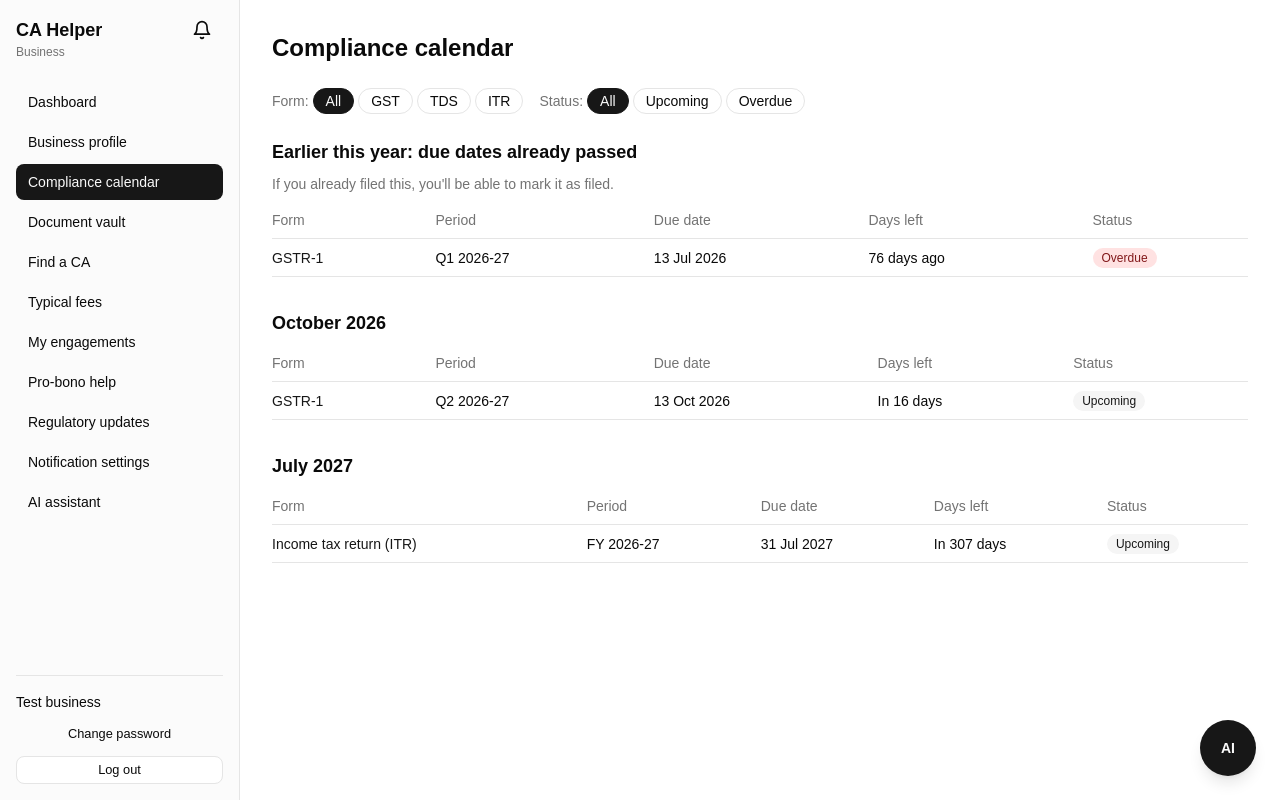
Test: compliance calendar page › filters by form and status
Click the button "ITR": point(499, 101) [475, 88, 524, 114]
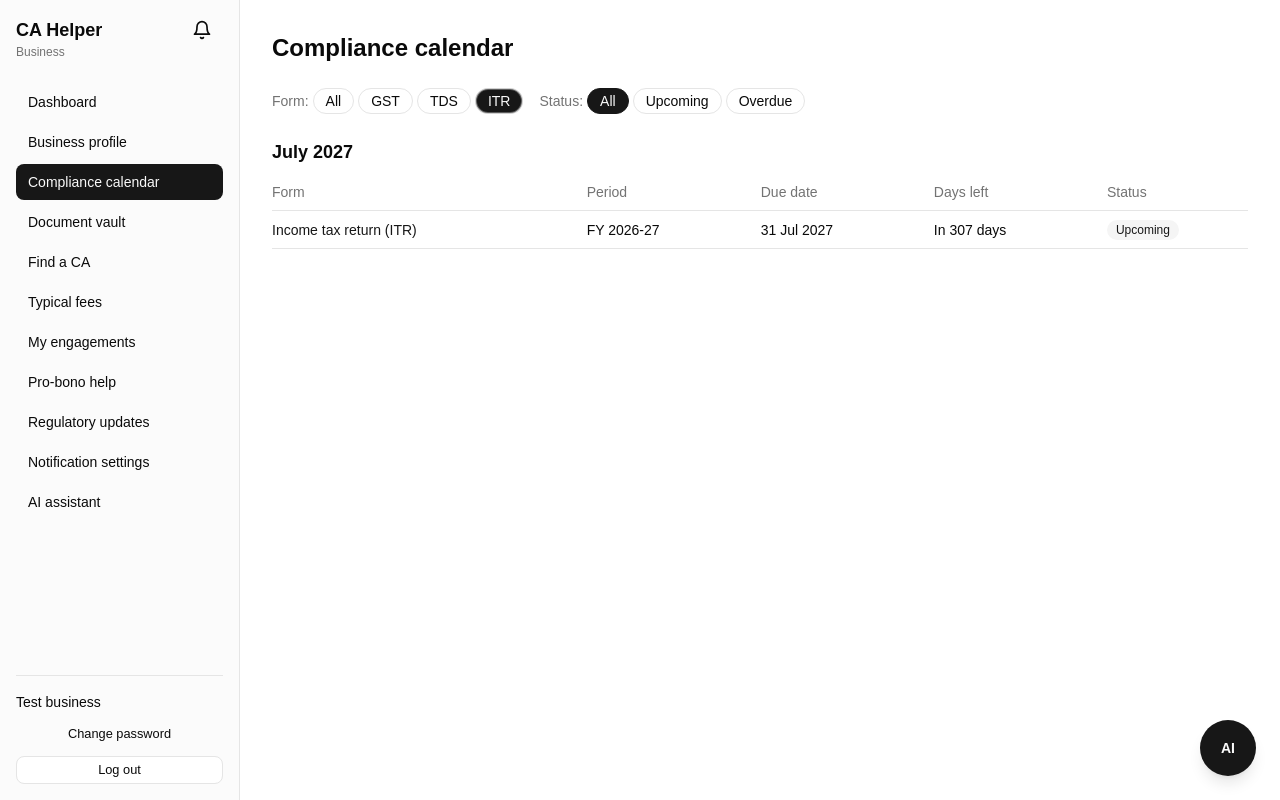
Expected: the link "Income tax return (ITR)" is shown, [272, 222, 417, 238]
Result: the link "GSTR-1" is gone
Click the 1st button "All": point(333, 101) [313, 88, 354, 114]
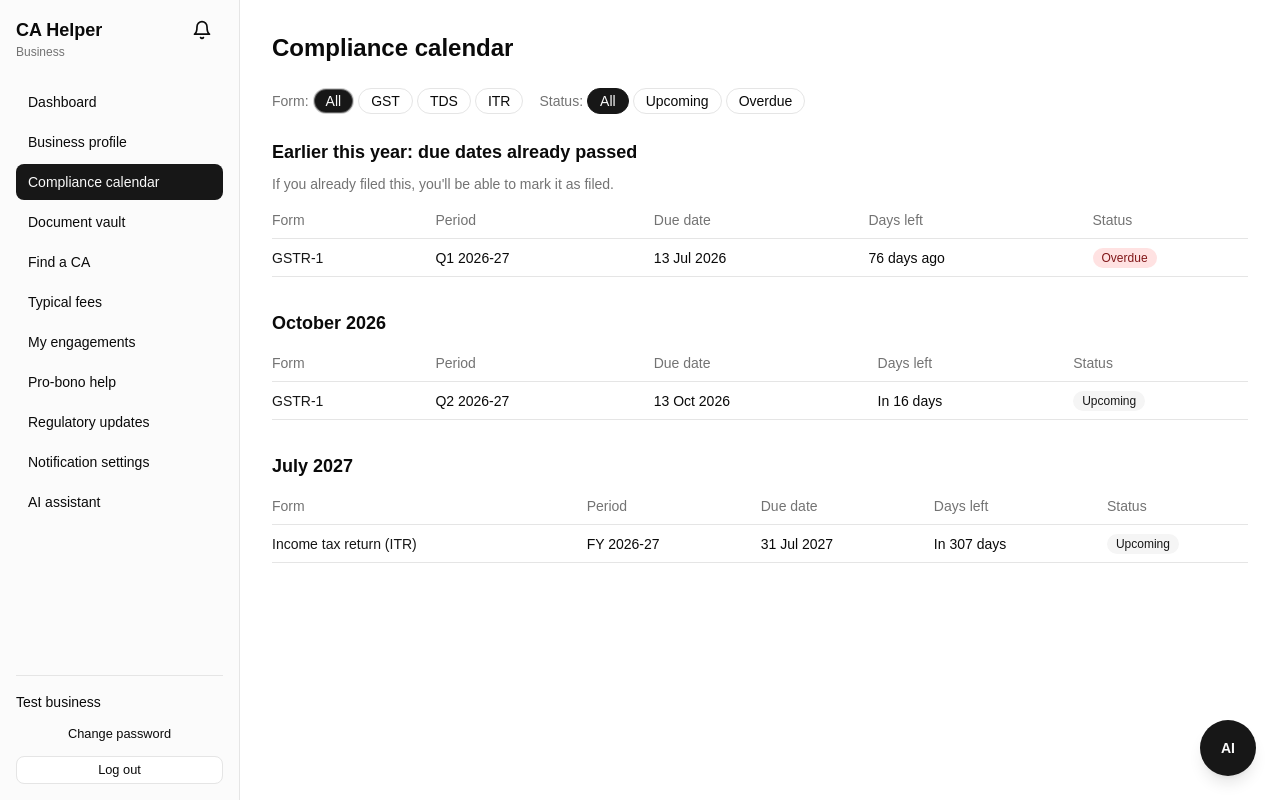
Click the button "Overdue": point(766, 101) [726, 88, 805, 114]
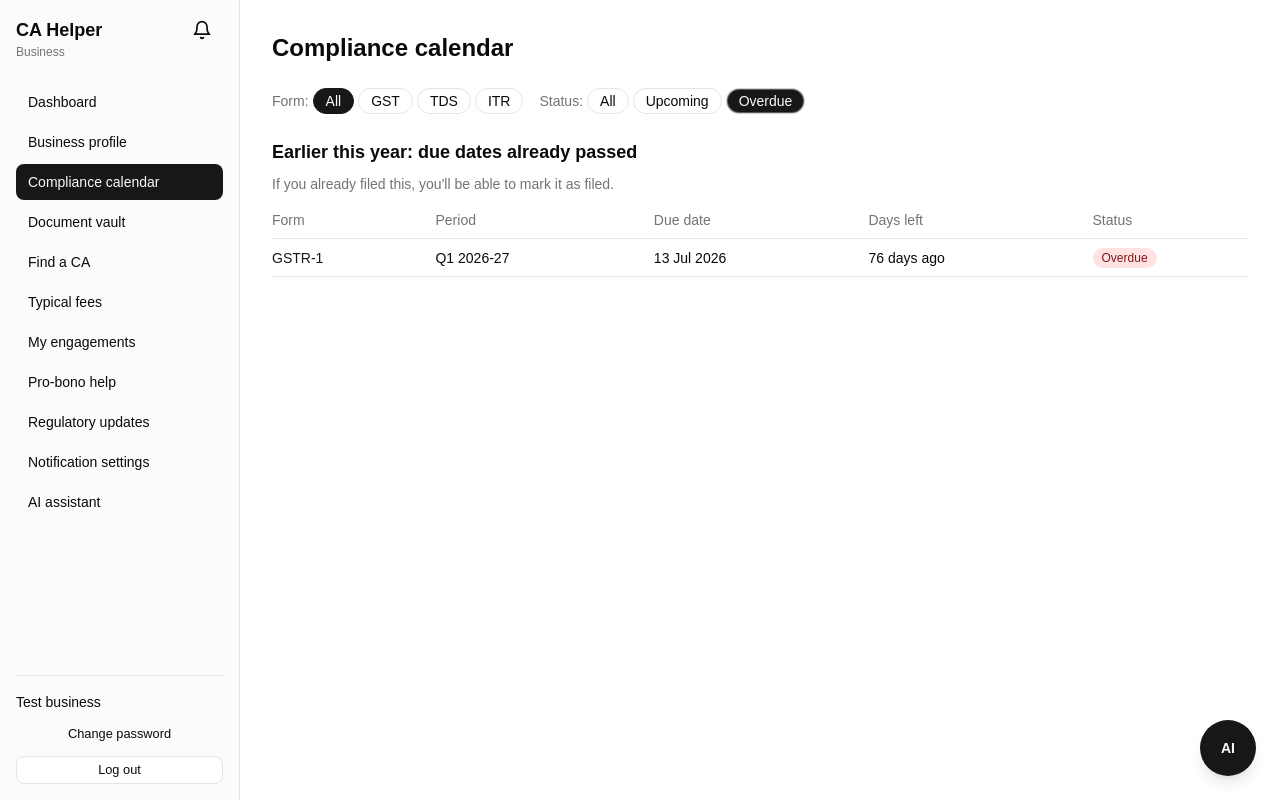
Result: the text "Q1 2026-27" is shown at [436, 238, 654, 276]
Result: the text "Q2 2026-27" is gone
